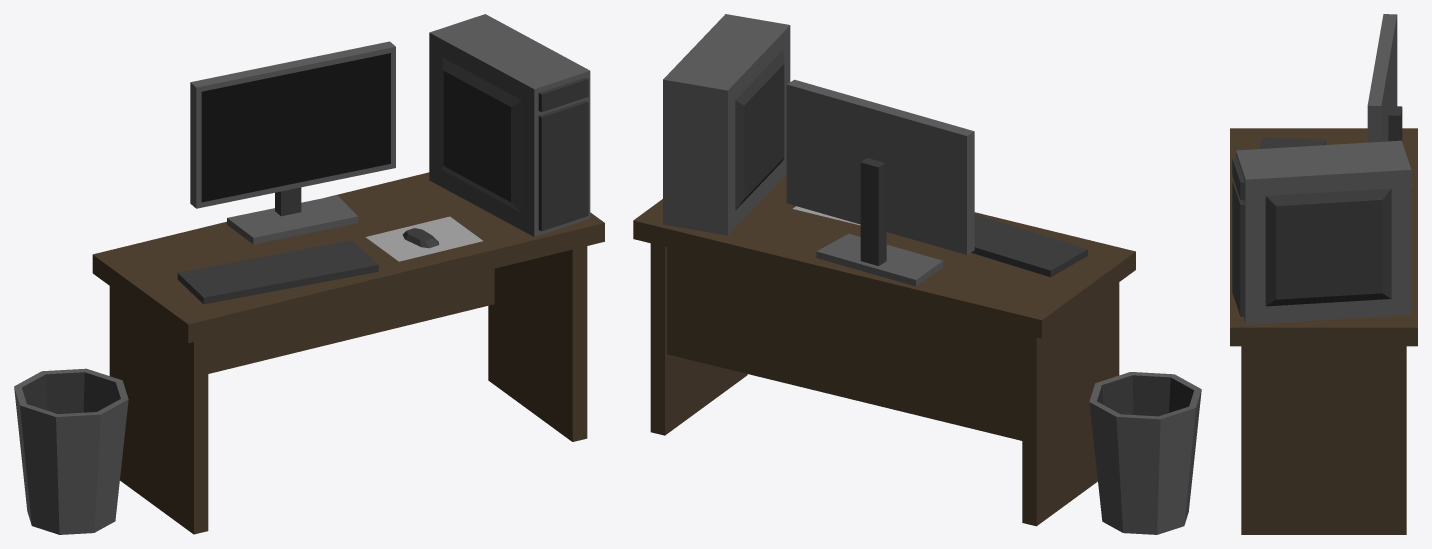
File: PCDesk2.glb
The picture shows the model from 3 angles, left to right: view 1: azimuth 30°, elevation 25°; view 2: azimuth 150°, elevation 25°; view 3: azimuth 270°, elevation 25°; orthographic projection.
Parts seen in each view (by area): view 1: PCDesk2; view 2: PCDesk2; view 3: PCDesk2.
Boxes of the visible parts, bbox=[...] form: PCDesk2: bbox=[14, 14, 604, 534]; PCDesk2: bbox=[633, 14, 1201, 534]; PCDesk2: bbox=[1230, 14, 1417, 534].
Size of the model in its own units: 2.19 by 1.48 by 0.685.
Materials: 1 (1 with a texture image).
